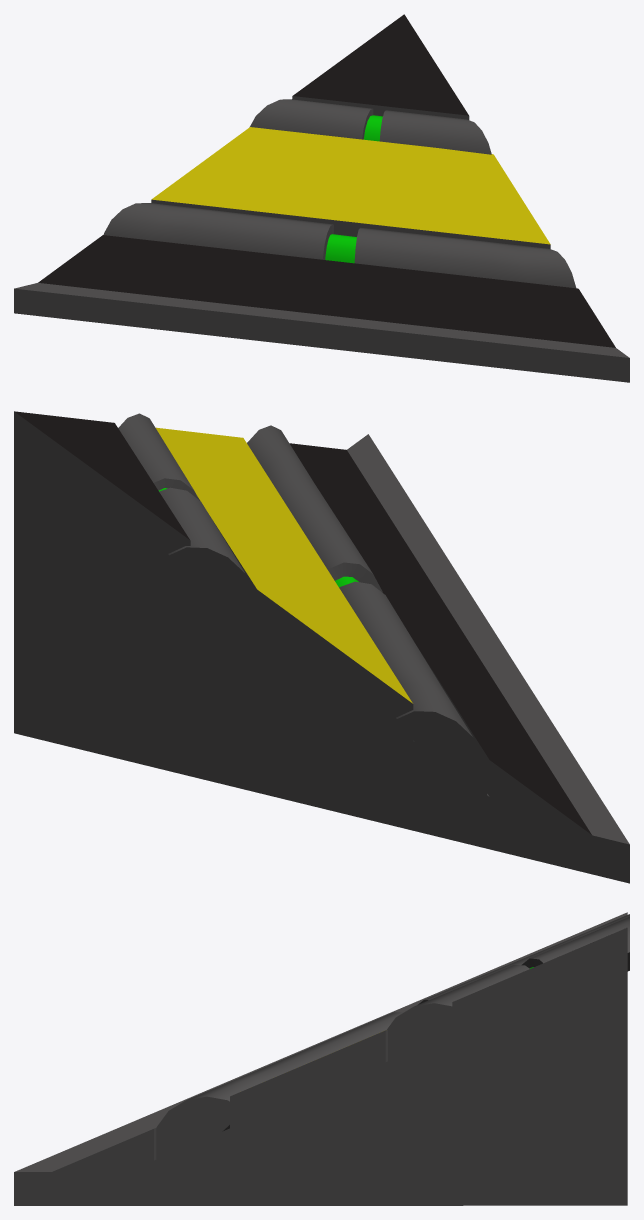
File: Robot_Floor_Edge_Corner.fbx
3 views of the same model, one above another, from view 1: azimuth 30°, elevation 25°; view 2: azimuth 150°, elevation 25°; view 3: azimuth 270°, elevation 25° (orthographic). The views are drawn at different scales.
Visible parts, largest first — view 1: polySurface82, polySurface81, polySurface83; view 2: polySurface82, polySurface81, polySurface83; view 3: polySurface82, polySurface81, polySurface83.
Part boxes in pixels (x1=…): polySurface82: x1=14, y1=14, x2=629, y2=382; polySurface81: x1=103, y1=203, x2=576, y2=288; polySurface83: x1=249, y1=99, x2=491, y2=154; polySurface82: x1=14, y1=411, x2=629, y2=883; polySurface81: x1=247, y1=425, x2=489, y2=802; polySurface83: x1=118, y1=413, x2=261, y2=638; polySurface82: x1=14, y1=912, x2=627, y2=1205; polySurface81: x1=156, y1=914, x2=629, y2=1159; polySurface83: x1=387, y1=916, x2=629, y2=1060.
Size of the model in its own units: 2.01 by 2.01 by 1.
